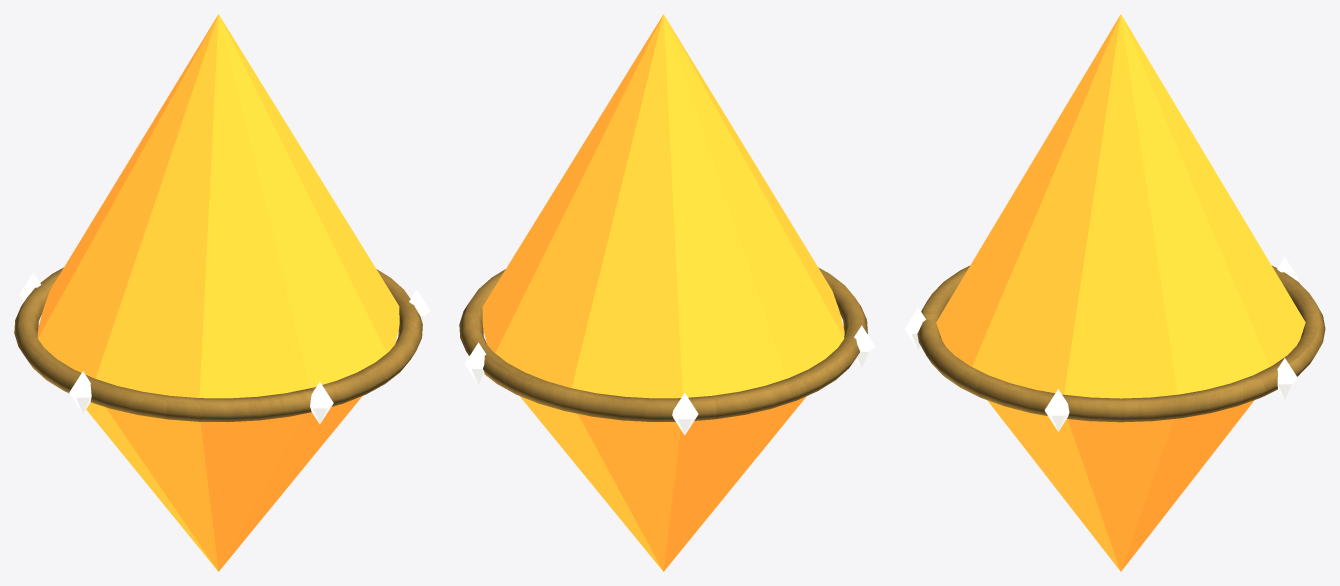
Rendered from lb_seal_1.glb.
3 views of the same model, side by side, from view 1: azimuth 30°, elevation 25°; view 2: azimuth 150°, elevation 25°; view 3: azimuth 270°, elevation 25° (orthographic).
Visible parts, largest first — view 1: lb_seal_1; view 2: lb_seal_1; view 3: lb_seal_1.
Boxes of the visible parts, x1,y1,x2,y2 form: lb_seal_1: (14,14,430,571); lb_seal_1: (459,14,875,571); lb_seal_1: (904,14,1325,571).
Bounding box in the file's own units: 2.06 × 3.1 × 2.12.
3 materials, 1 textured.
